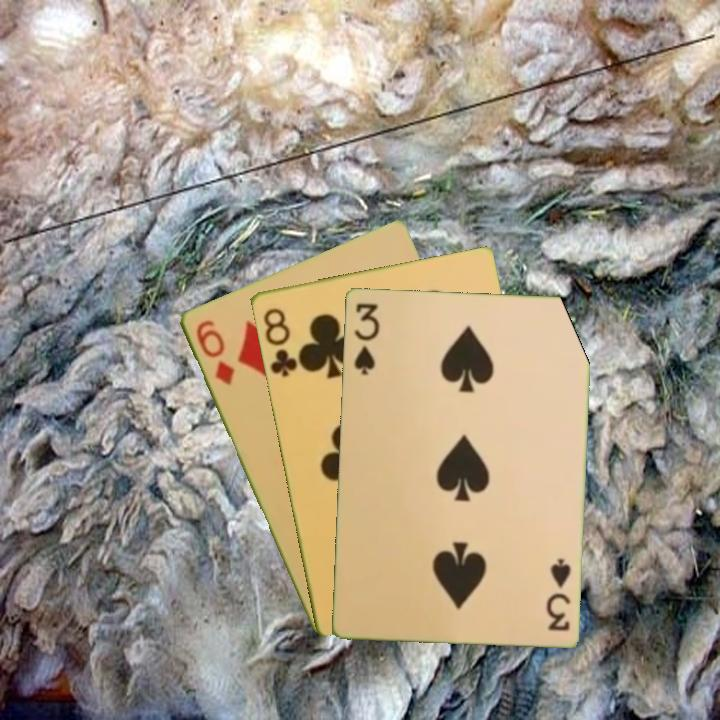3s: (350, 299, 382, 377), (542, 554, 573, 633)
6d: (192, 316, 237, 388)
8c: (259, 304, 300, 380)
